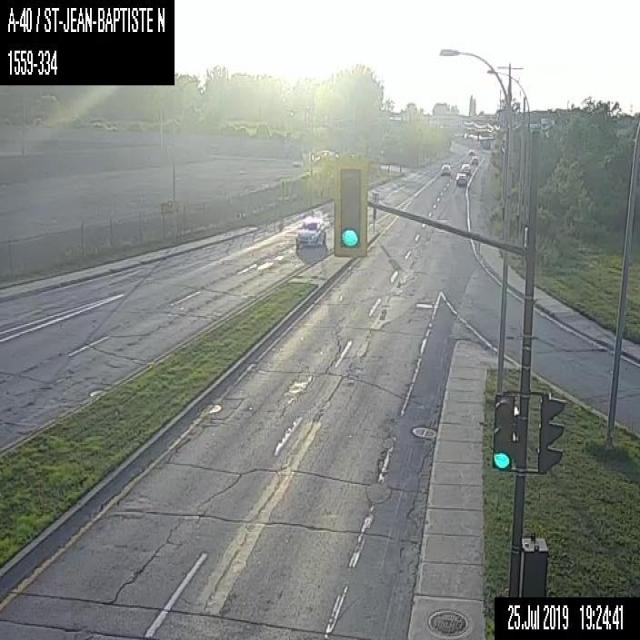vehicle: (294, 219, 326, 245), (454, 171, 466, 185), (440, 163, 451, 175), (460, 162, 471, 174), (470, 156, 478, 164)
